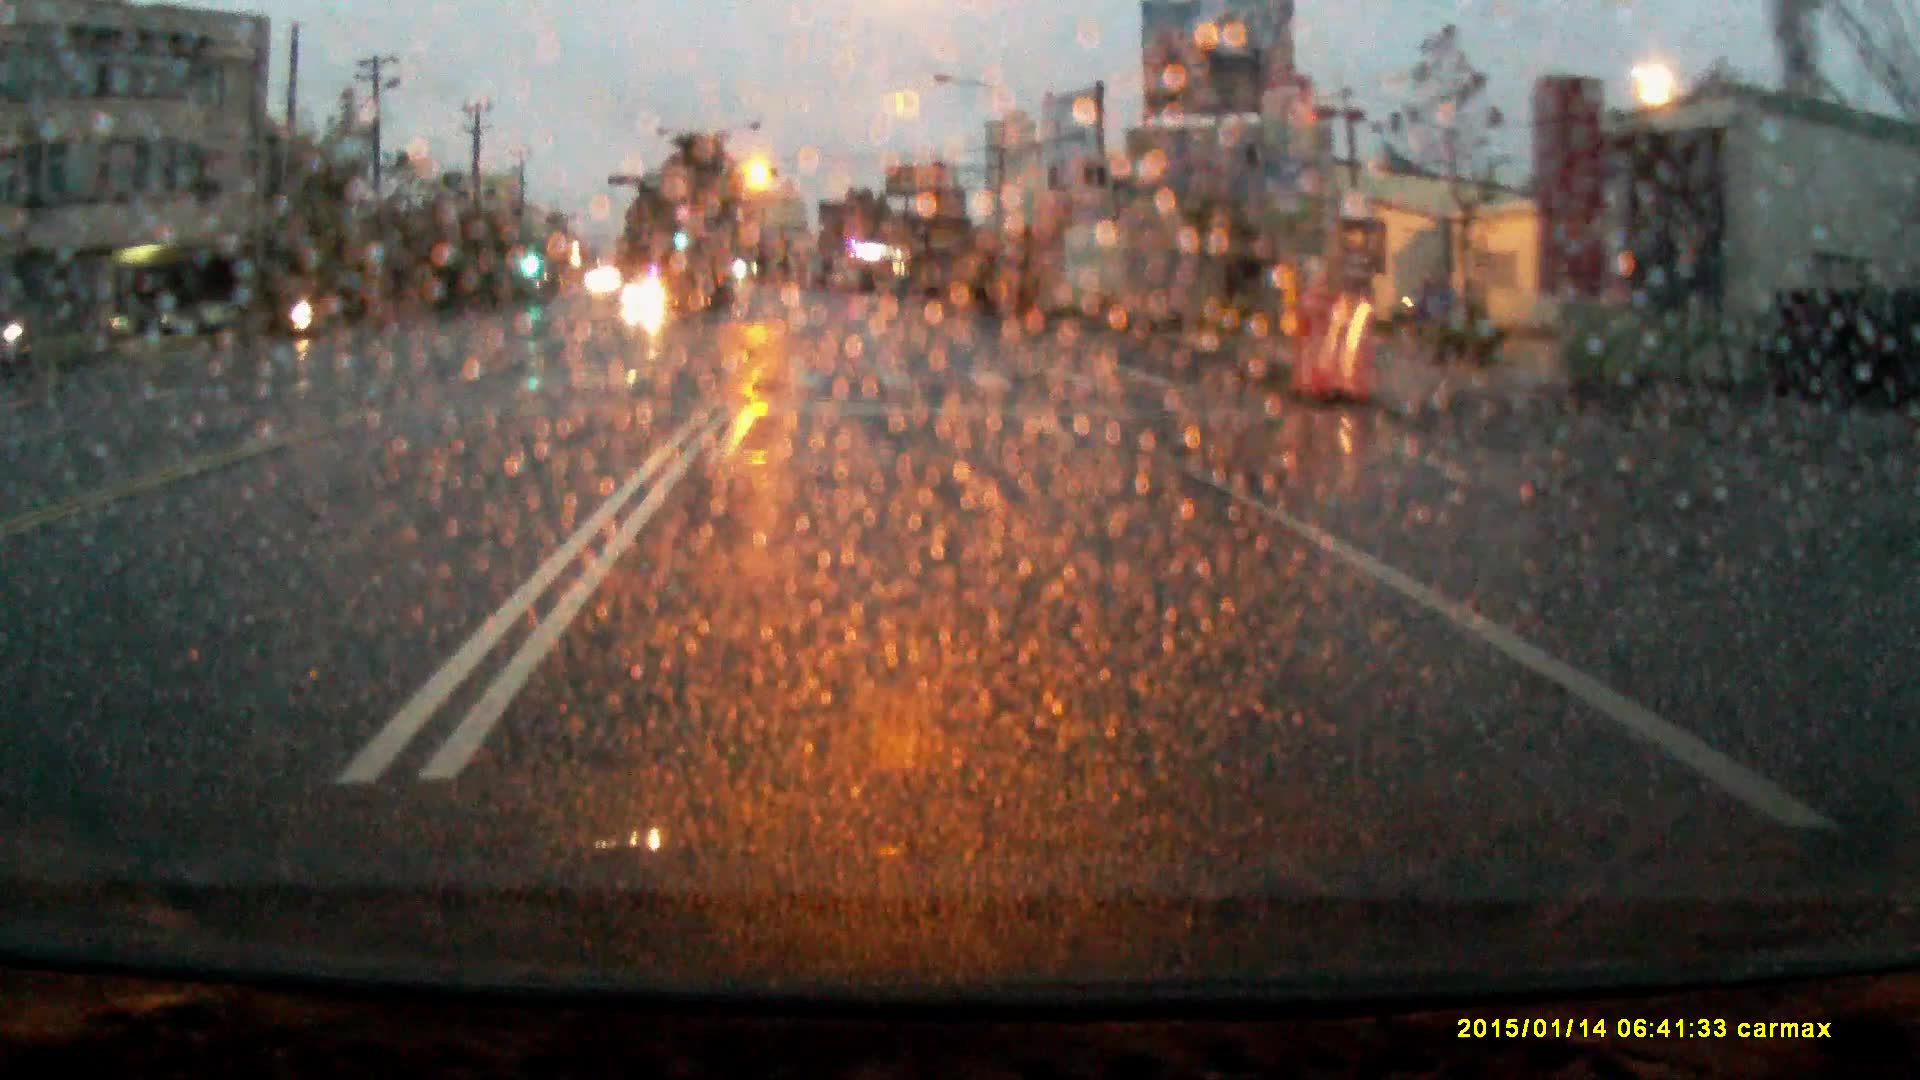rider: (287, 271, 322, 350)
vehicle: (624, 279, 667, 309)
